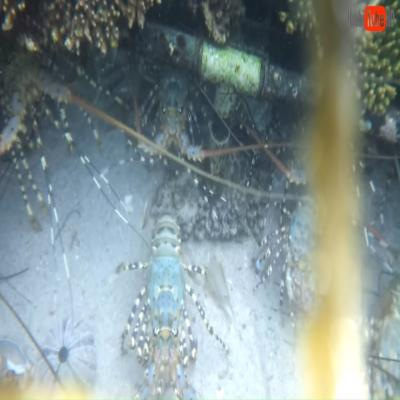lobster: (140, 198, 192, 392), (3, 42, 64, 156), (272, 172, 319, 311), (152, 58, 195, 162)
